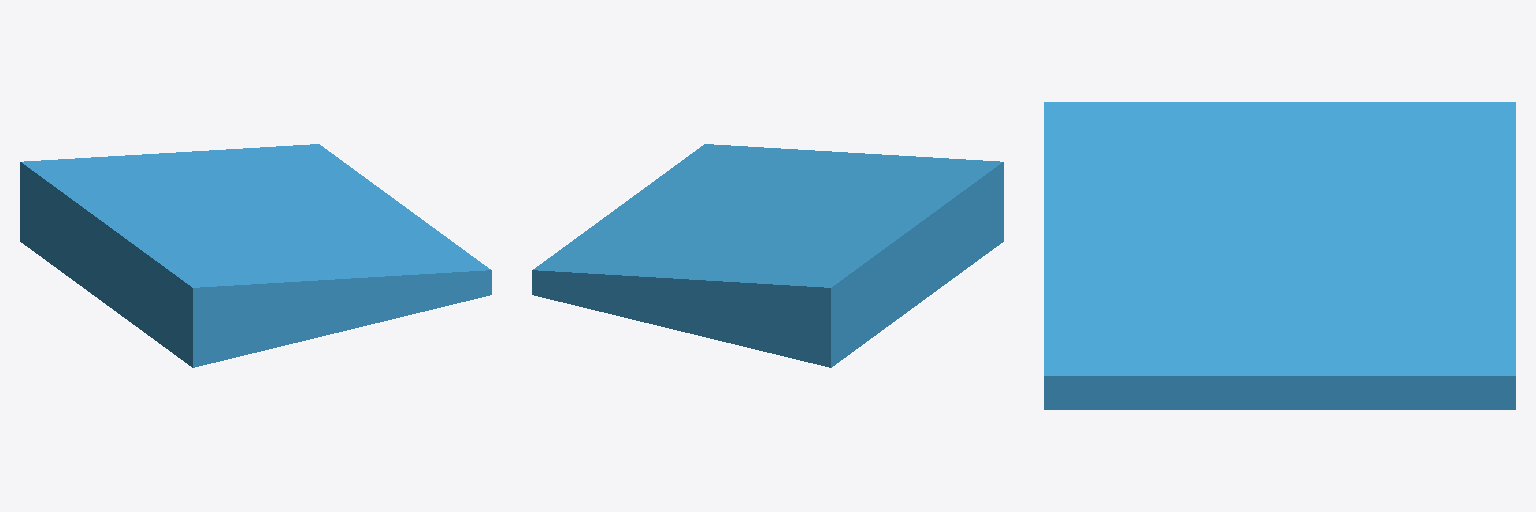
The robot description file, URDF, robot "Y_positive_10_lifted_size_30":
<?xml version="1.0" ?>
<robot name="Y_positive_10_lifted_size_30">
<!-- Used for fixing robot to Gazebo 'base_link' -->

<link name="world"/>

  <joint name="fixed" type="fixed">
    <parent link="world"/>
    <child link="Y_positive_10_lifted_size_30__link"/>
  </joint>

  <link name="Y_positive_10_lifted_size_30__link">
    <inertial>
      <mass value="10"/>
      <inertia ixx="1.0" ixy="0.0" ixz="0.0" iyy="1.0" iyz="0.0" izz="1.0"/>
    </inertial>
    <collision>
      <geometry>
         <mesh filename="package://pal_gazebo_worlds/models/Y_positive_10_lifted/meshes/10_degree_slope_lifted_size_30.stl" scale="0.00999 0.00999 0.00999"/>
      </geometry>
      <surface>
        <friction>
          <ode>
            <mu1 value="1.0" />
            <mu2 value="1.0" />
            <kp  value="1e5" />
            <kd  value="1e2" />
            <maxVel  value="100.0" />
            <minDepth  value="0.0" />
            <dampingFactor>0.01</dampingFactor>
          </ode>
        </friction>
      </surface>
    </collision>
    <visual>
      <geometry>
        <mesh filename="package://pal_gazebo_worlds/models/Y_positive_10_lifted/meshes/10_degree_slope_lifted_size_30.stl" scale="0.00999 0.00999 0.00999"/>
      </geometry>
      <material name="white">
      </material>
    </visual>
  </link>



</robot>

--- What the picture shows (computed from the rendered views, not written in the file) ---
Views: 3 orthographic renders of the robot side by side, from view 1: azimuth 30°, elevation 25°; view 2: azimuth 150°, elevation 25°; view 3: azimuth 270°, elevation 25°.
Robot: Y_positive_10_lifted_size_30 — 2 links, 1 joints (1 fixed); root link world; default pose: all joints at 0.
Visible links, largest first — view 1: Y_positive_10_lifted_size_30__link; view 2: Y_positive_10_lifted_size_30__link; view 3: Y_positive_10_lifted_size_30__link.
Link boxes in pixels (box(x1,y1,x2,y2)): Y_positive_10_lifted_size_30__link: box(20, 144, 491, 367); Y_positive_10_lifted_size_30__link: box(532, 144, 1003, 367); Y_positive_10_lifted_size_30__link: box(1044, 102, 1515, 409).
Size in the robot's own frame: 0.2997 by 0.2997 by 0.0768 metres.
Meshes: 1 distinct files referenced, 1 mesh visuals loaded (1 binary STL).